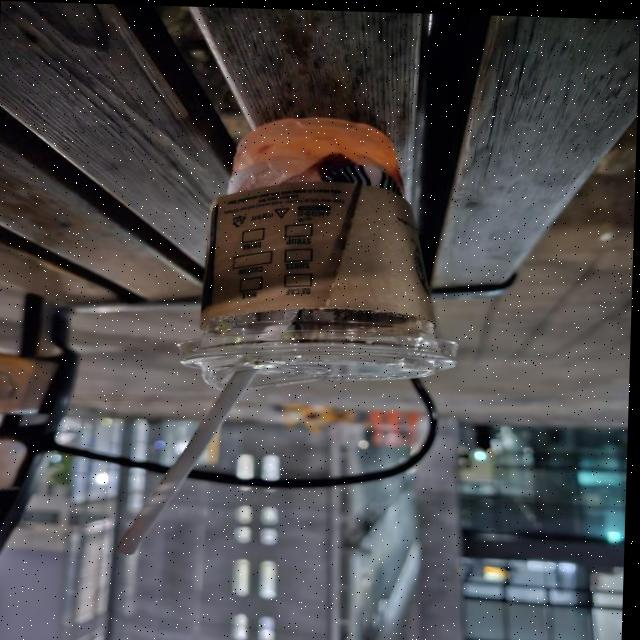cup: (167, 106, 468, 399)
